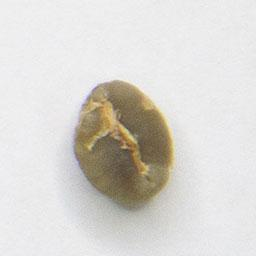premium: (69, 77, 177, 208)
